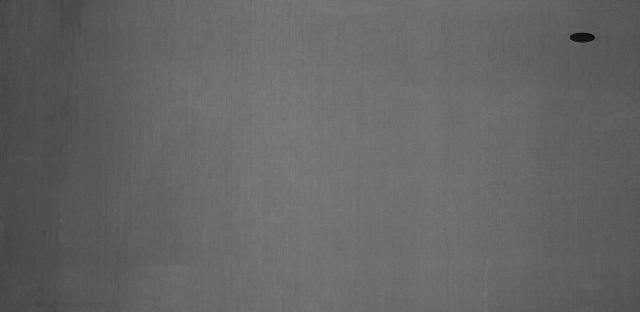punching_hole: (566, 29, 599, 47)
